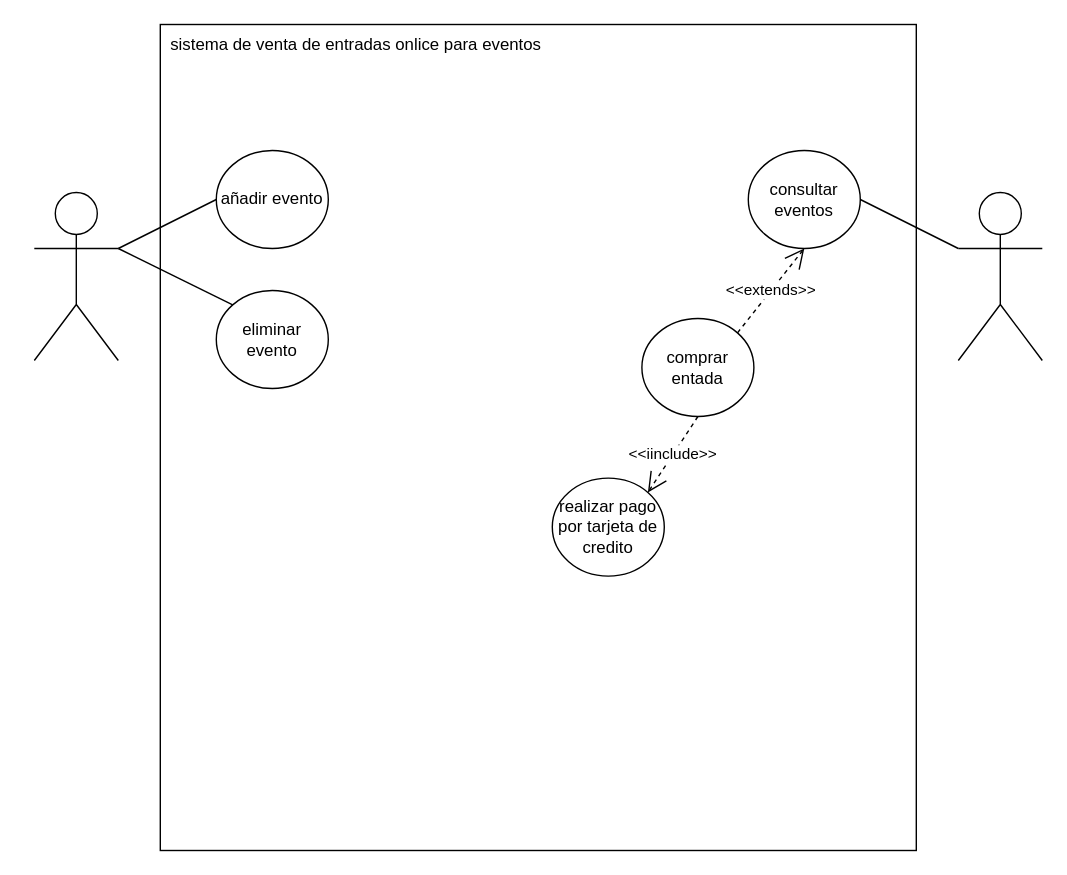
This 1067x875 diagram has some shape labels left out. The shapes that lost their labels are listed below. From the top down, each one's box as (x1, y1, x2, y2) in pixels, then its label:
(33, 191, 118, 360): Administrador
(957, 191, 1042, 360): Cliente
